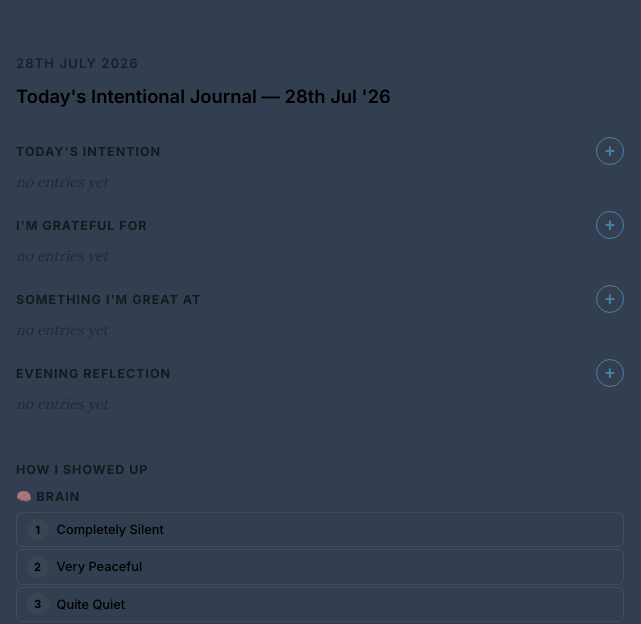
Scenario: /today — publishing › enables Publish when writing is typed but not yet added
Click the 1st button "+" at [610, 151], box x1=596 y1=137 x2=624 y2=165
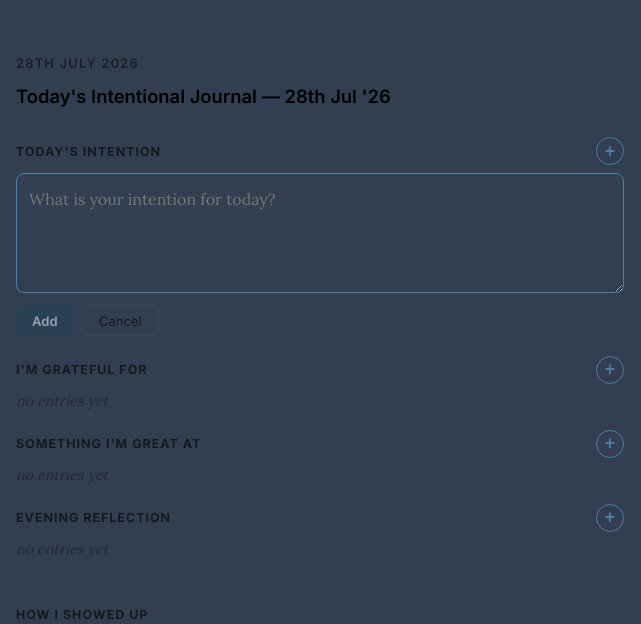
Type "Set an intention and log how I feel." into the text box with placeholder "What is your intention for today?" at [320, 233], box x1=16 y1=173 x2=624 y2=293
(page scrolled)
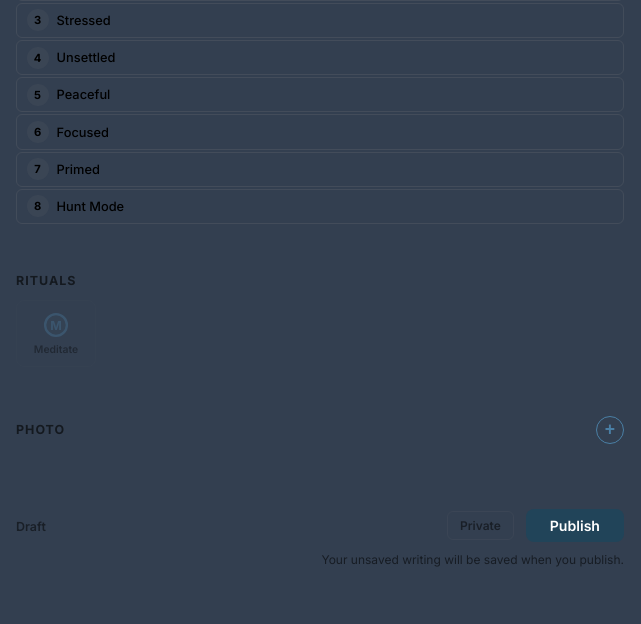
Expected: the button "Publish" is enabled, x1=526 y1=509 x2=624 y2=542
Expected: the text "Your unsaved writing will be saved when you publish." is shown, x1=321 y1=552 x2=624 y2=567
